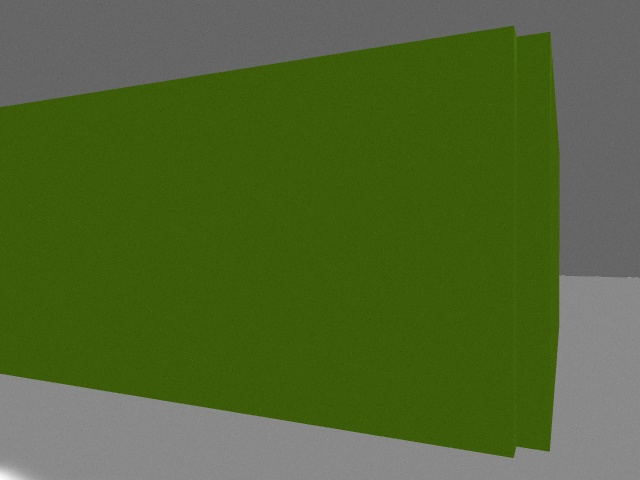green_drop_zone: (0, 26, 560, 458)
